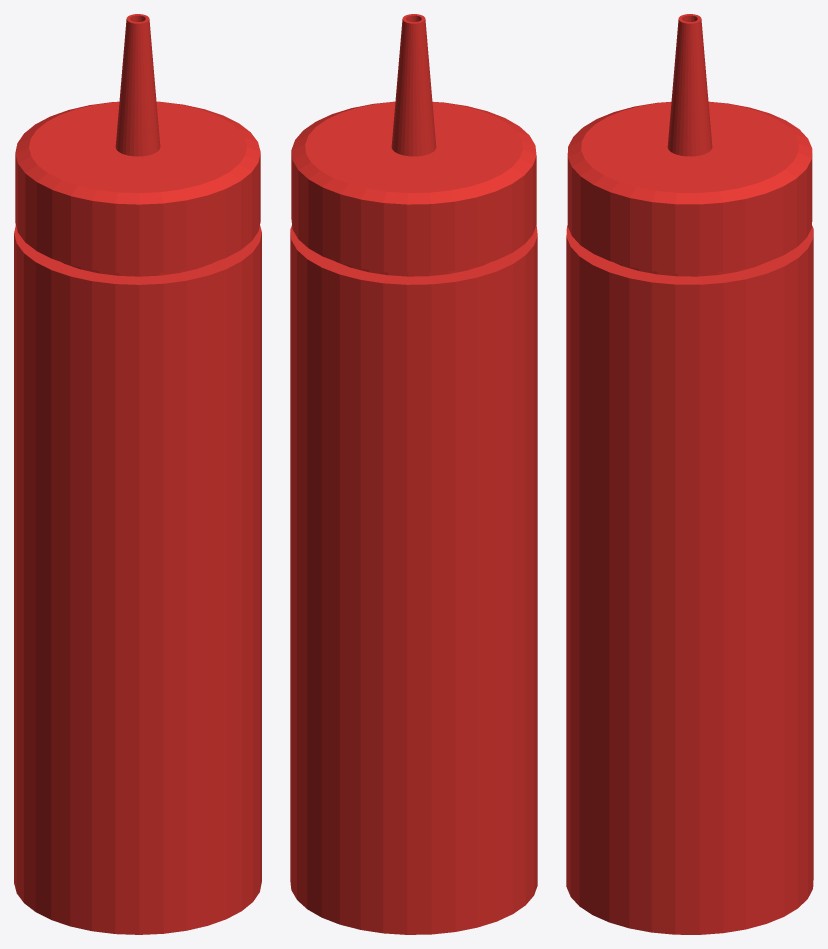
The model's file is Ketchup_Bottle.fbx.
3 renders of one model, left to right at view 1: azimuth 30°, elevation 25°; view 2: azimuth 150°, elevation 25°; view 3: azimuth 270°, elevation 25°, orthographic.
Visible parts, largest first — view 1: Ketchup; view 2: Ketchup; view 3: Ketchup.
Part boxes in pixels (x1,y1,x2,y2): Ketchup: [14, 14, 261, 934]; Ketchup: [290, 14, 537, 934]; Ketchup: [566, 14, 813, 934].
Bounding box in the file's own units: 83.55 × 322 × 83.55.
